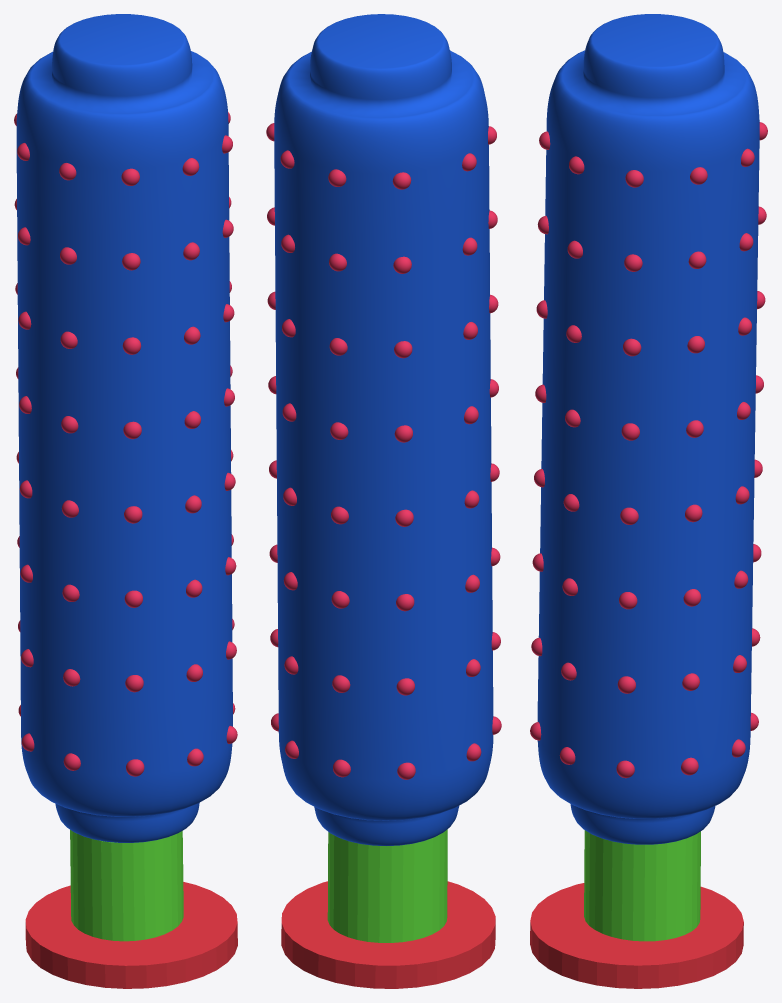
File: verticalRotator.fbx
3 views of the same model, side by side, from view 1: azimuth 30°, elevation 25°; view 2: azimuth 150°, elevation 25°; view 3: azimuth 270°, elevation 25° (orthographic).
Visible parts, largest first — view 1: Cylinder, Cylinder.002, Cylinder.001; view 2: Cylinder, Cylinder.002, Cylinder.001; view 3: Cylinder, Cylinder.002, Cylinder.001.
Part boxes in pixels (bbox=[...]): Cylinder: bbox=[14, 14, 237, 842]; Cylinder.002: bbox=[25, 882, 237, 988]; Cylinder.001: bbox=[70, 830, 183, 941]; Cylinder: bbox=[266, 14, 501, 845]; Cylinder.002: bbox=[281, 881, 495, 988]; Cylinder.001: bbox=[327, 829, 447, 942]; Cylinder: bbox=[530, 14, 767, 844]; Cylinder.002: bbox=[530, 883, 743, 988]; Cylinder.001: bbox=[584, 830, 700, 941].
Bounding box in the file's own units: 213 × 935 × 223.
